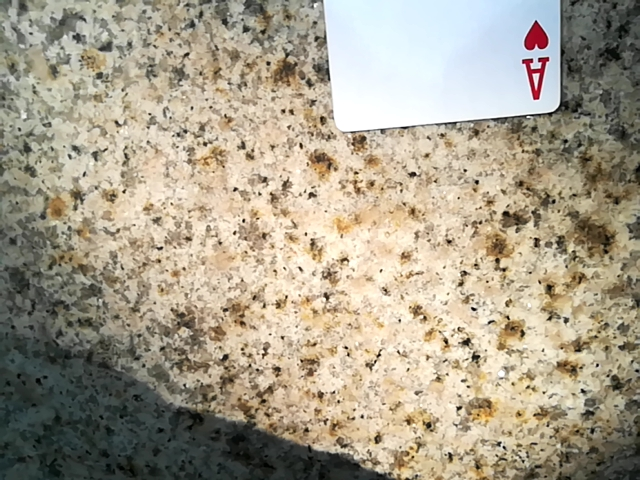hx a: (312, 2, 555, 126)
